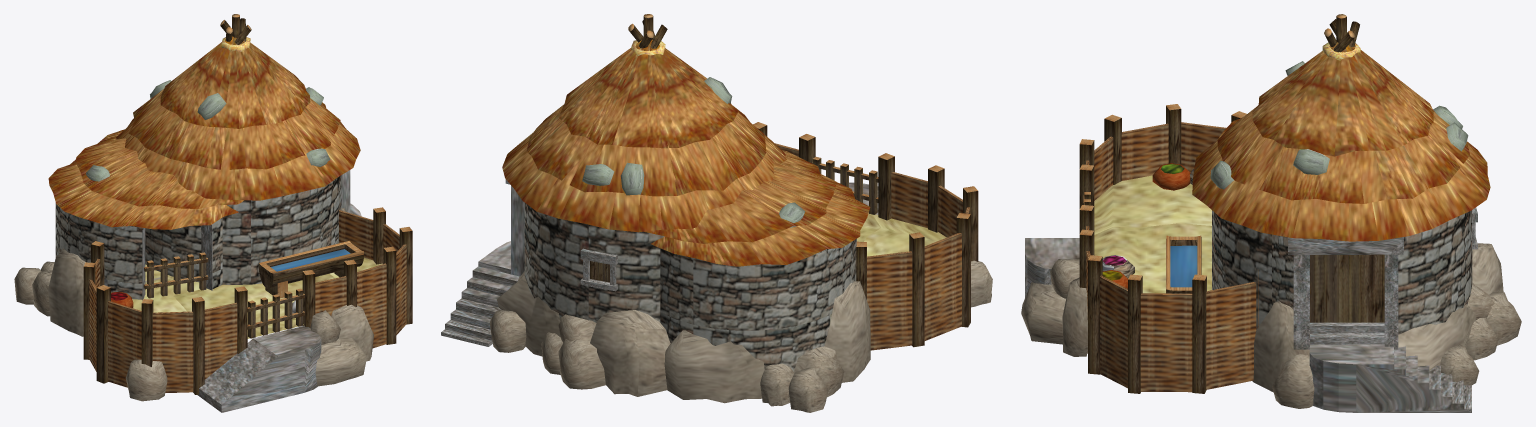
File: lusi_new_corral.dae
The picture shows the model from 3 angles, left to right: view 1: azimuth 30°, elevation 25°; view 2: azimuth 150°, elevation 25°; view 3: azimuth 270°, elevation 25°; orthographic projection. The views are drawn at different scales.
Parts seen in each view (by area): view 1: lusi_corral; view 2: lusi_corral; view 3: lusi_corral.
Part boxes in pixels (x1,y1,x2,y2): lusi_corral: [14, 14, 412, 412]; lusi_corral: [441, 14, 992, 412]; lusi_corral: [1021, 14, 1521, 412].
Bounding box in the file's own units: 18.55 × 19.95 × 14.39.
